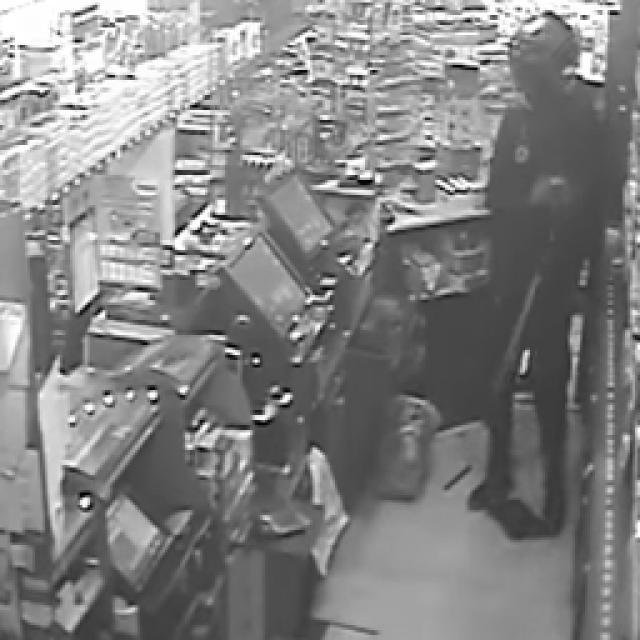Invader: (465, 10, 605, 538)
